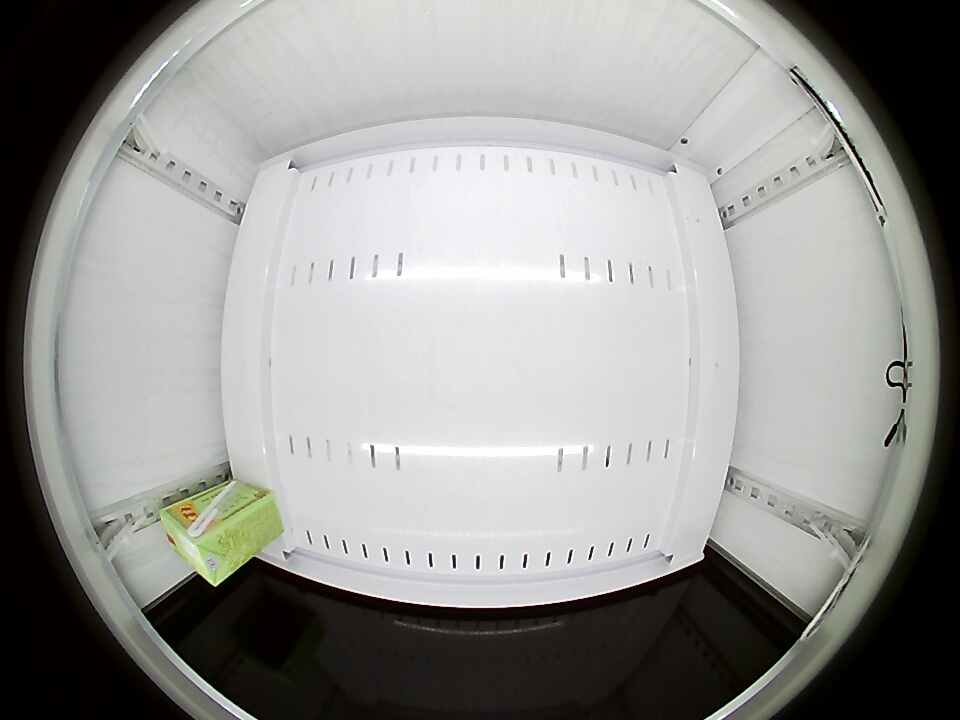wanglaoji: (160, 499, 239, 587)
